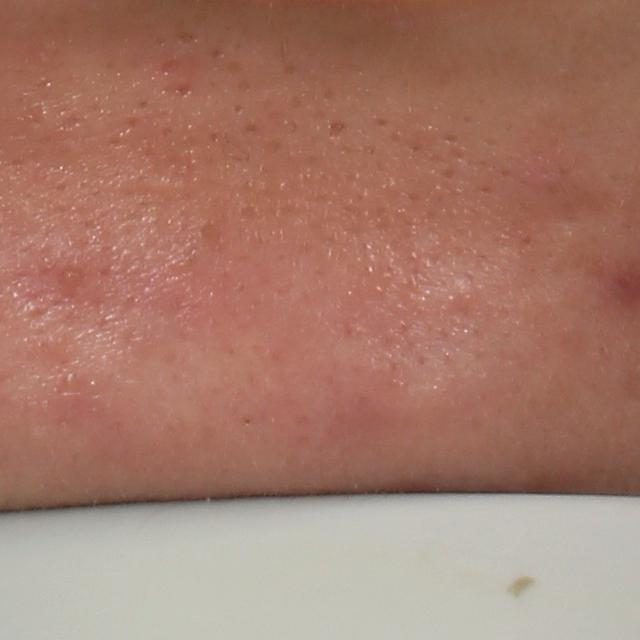atrophic_scar: (326, 118, 350, 139)
